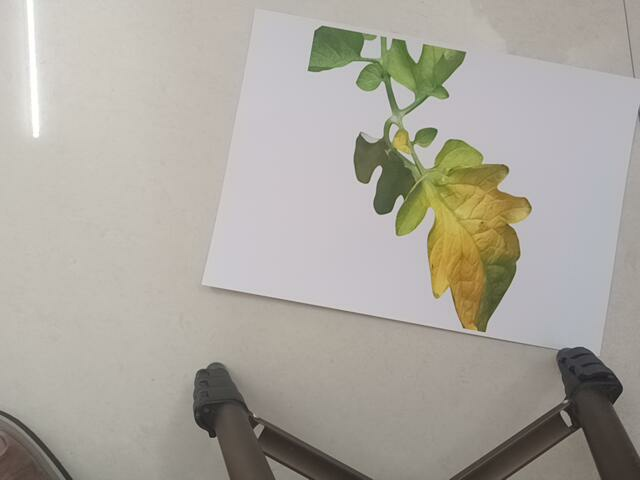Tomamto_Yellow_Disease: (309, 26, 536, 334)
